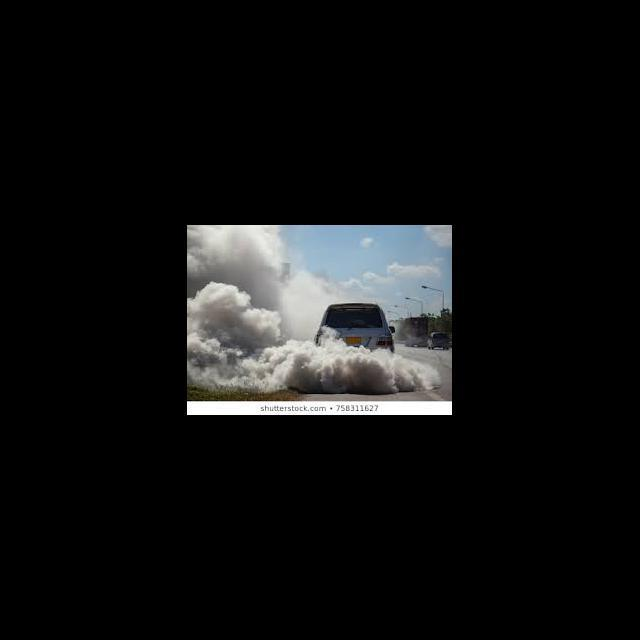Smoke: (188, 226, 424, 392)
